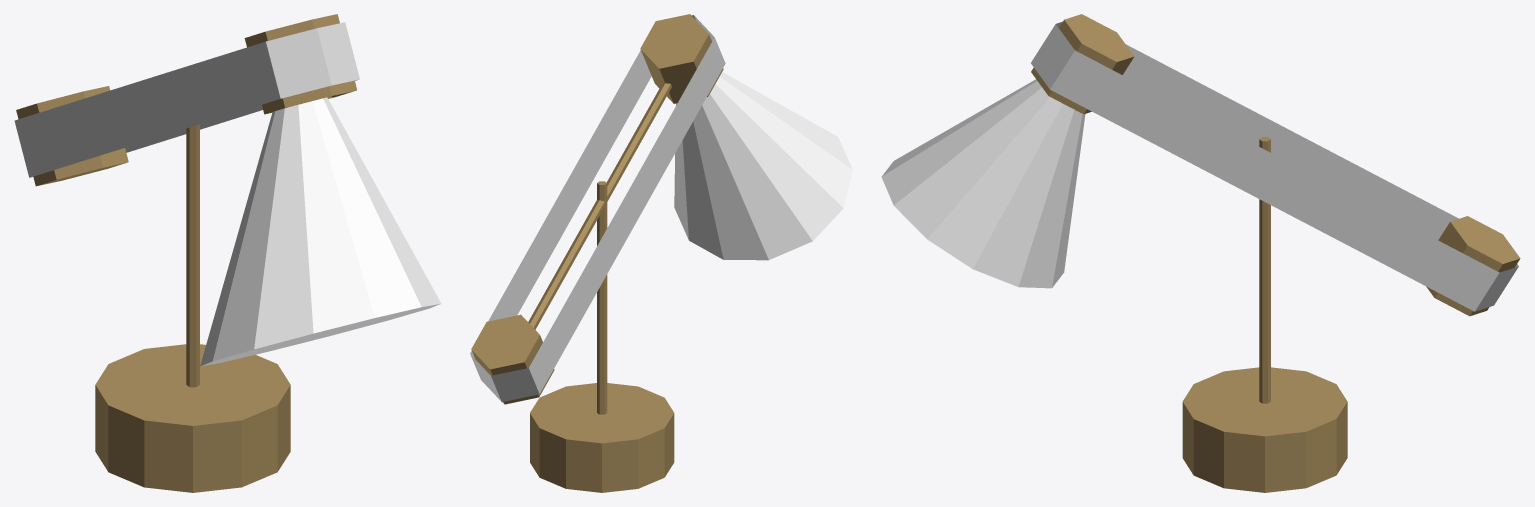
The model's file is orbit.glb.
The picture shows the model from 3 angles, left to right: view 1: azimuth 30°, elevation 25°; view 2: azimuth 150°, elevation 25°; view 3: azimuth 270°, elevation 25°; orthographic projection. The views are drawn at different scales.
Visible parts, largest first — view 1: Cylinder.006, Cylinder, Cylinder.005, Cylinder.001, Cylinder.004, Cylinder.003; view 2: Cylinder.006, Cylinder.005, Cylinder, Cylinder.003, Cylinder.004, Cylinder.002, Cylinder.001; view 3: Cylinder.005, Cylinder.006, Cylinder, Cylinder.004, Cylinder.003, Cylinder.001.
Part boxes in pixels (x1,y1,x2,y2): Cylinder.006: [200, 97, 441, 366]; Cylinder: [95, 344, 290, 492]; Cylinder.005: [14, 22, 359, 177]; Cylinder.001: [186, 124, 199, 387]; Cylinder.004: [16, 86, 128, 186]; Cylinder.003: [244, 14, 356, 114]; Cylinder.006: [674, 72, 852, 260]; Cylinder.005: [470, 15, 725, 401]; Cylinder: [530, 383, 674, 492]; Cylinder.003: [640, 14, 723, 103]; Cylinder.004: [471, 314, 554, 404]; Cylinder.002: [528, 82, 671, 329]; Cylinder.001: [597, 181, 607, 414]; Cylinder.005: [1031, 21, 1518, 311]; Cylinder.006: [881, 79, 1085, 288]; Cylinder: [1182, 367, 1347, 492]; Cylinder.004: [1426, 216, 1520, 316]; Cylinder.003: [1031, 14, 1134, 114]; Cylinder.001: [1259, 137, 1270, 403].
Bounding box in the file's own units: 13.75 × 28.66 × 37.87.
